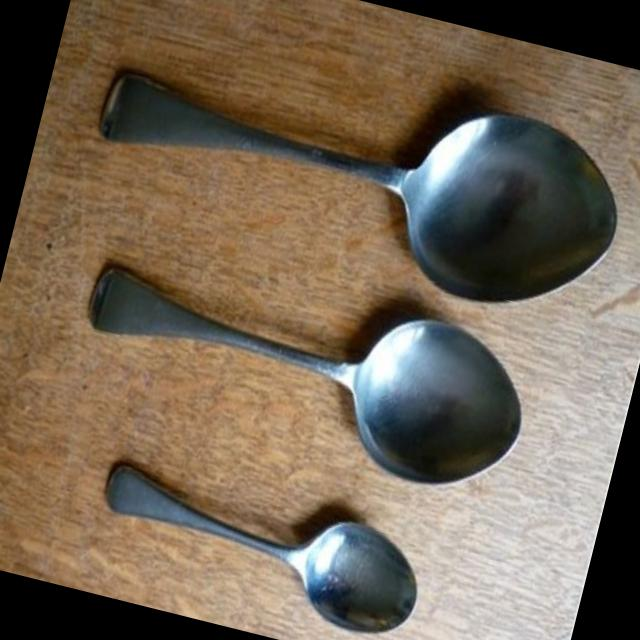spoon: (80, 439, 432, 640)
